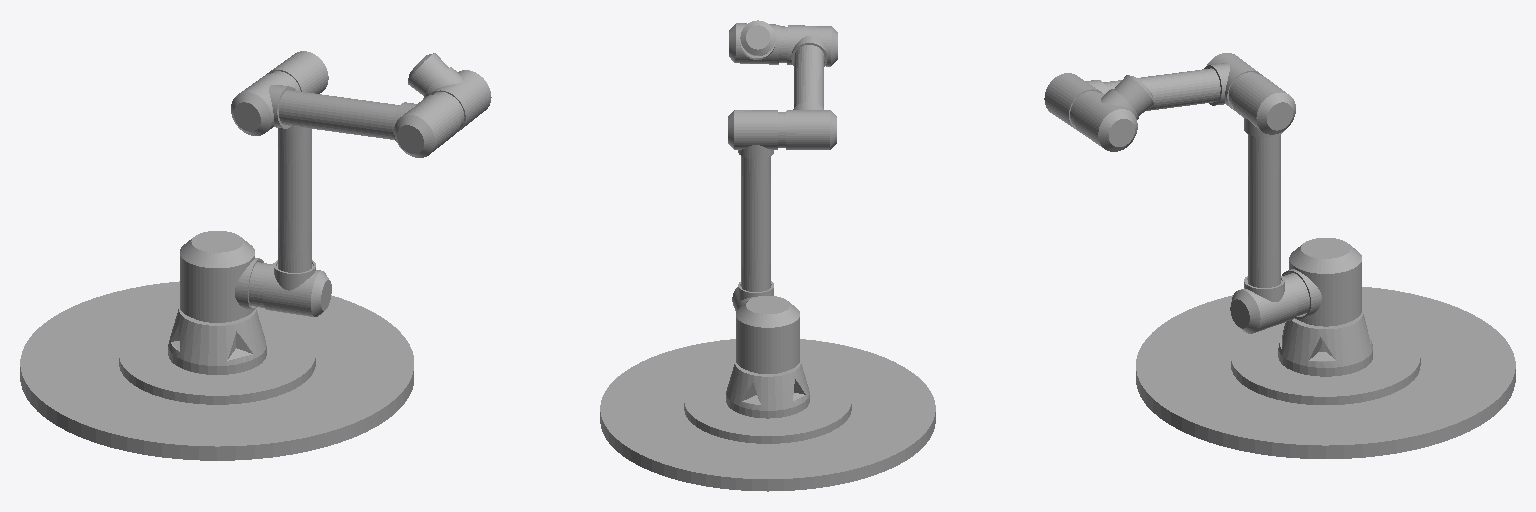
The robot description file, URDF, robot "elegriparm":
<?xml version="1.0" encoding="utf-8"?>
<!-- =================================================================================== -->
<!-- |    This document was autogenerated by xacro from elegriparm.xacro               | -->
<!-- |    EDITING THIS FILE BY HAND IS NOT RECOMMENDED                                 | -->
<!-- =================================================================================== -->
<robot name="elegriparm">
  <material name="silver">
    <color rgba="0.700 0.700 0.700 1.000"/>
  </material>
  <transmission name="Rev46_tran">
    <type>transmission_interface/SimpleTransmission</type>
    <joint name="Rev46">
      <hardwareInterface>hardware_interface/EffortJointInterface</hardwareInterface>
    </joint>
    <actuator name="Rev46_actr">
      <hardwareInterface>hardware_interface/EffortJointInterface</hardwareInterface>
      <mechanicalReduction>1</mechanicalReduction>
    </actuator>
  </transmission>
  <transmission name="Rev47_tran">
    <type>transmission_interface/SimpleTransmission</type>
    <joint name="Rev47">
      <hardwareInterface>hardware_interface/EffortJointInterface</hardwareInterface>
    </joint>
    <actuator name="Rev47_actr">
      <hardwareInterface>hardware_interface/EffortJointInterface</hardwareInterface>
      <mechanicalReduction>1</mechanicalReduction>
    </actuator>
  </transmission>
  <transmission name="Rev48_tran">
    <type>transmission_interface/SimpleTransmission</type>
    <joint name="Rev48">
      <hardwareInterface>hardware_interface/EffortJointInterface</hardwareInterface>
    </joint>
    <actuator name="Rev48_actr">
      <hardwareInterface>hardware_interface/EffortJointInterface</hardwareInterface>
      <mechanicalReduction>1</mechanicalReduction>
    </actuator>
  </transmission>
  <transmission name="Rev50_tran">
    <type>transmission_interface/SimpleTransmission</type>
    <joint name="Rev50">
      <hardwareInterface>hardware_interface/EffortJointInterface</hardwareInterface>
    </joint>
    <actuator name="Rev50_actr">
      <hardwareInterface>hardware_interface/EffortJointInterface</hardwareInterface>
      <mechanicalReduction>1</mechanicalReduction>
    </actuator>
  </transmission>
  <transmission name="Rev51_tran">
    <type>transmission_interface/SimpleTransmission</type>
    <joint name="Rev51">
      <hardwareInterface>hardware_interface/EffortJointInterface</hardwareInterface>
    </joint>
    <actuator name="Rev51_actr">
      <hardwareInterface>hardware_interface/EffortJointInterface</hardwareInterface>
      <mechanicalReduction>1</mechanicalReduction>
    </actuator>
  </transmission>
  <transmission name="Rev52_tran">
    <type>transmission_interface/SimpleTransmission</type>
    <joint name="Rev52">
      <hardwareInterface>hardware_interface/EffortJointInterface</hardwareInterface>
    </joint>
    <actuator name="Rev52_actr">
      <hardwareInterface>hardware_interface/EffortJointInterface</hardwareInterface>
      <mechanicalReduction>1</mechanicalReduction>
    </actuator>
  </transmission>
  <transmission name="Rev53_tran">
    <type>transmission_interface/SimpleTransmission</type>
    <joint name="Rev53">
      <hardwareInterface>hardware_interface/EffortJointInterface</hardwareInterface>
    </joint>
    <actuator name="Rev53_actr">
      <hardwareInterface>hardware_interface/EffortJointInterface</hardwareInterface>
      <mechanicalReduction>1</mechanicalReduction>
    </actuator>
  </transmission>
  <transmission name="Rev60_tran">
    <type>transmission_interface/SimpleTransmission</type>
    <joint name="Rev60">
      <hardwareInterface>hardware_interface/EffortJointInterface</hardwareInterface>
    </joint>
    <actuator name="Rev60_actr">
      <hardwareInterface>hardware_interface/EffortJointInterface</hardwareInterface>
      <mechanicalReduction>1</mechanicalReduction>
    </actuator>
  </transmission>
  <gazebo>
    <plugin filename="libgazebo_ros_control.so" name="control"/>
  </gazebo>
  <gazebo reference="base_link">
    <material>Gazebo/Silver</material>
    <mu1>0.2</mu1>
    <mu2>0.2</mu2>
    <selfCollide>true</selfCollide>
    <gravity>true</gravity>
  </gazebo>
  <gazebo reference="link1_1">
    <material>Gazebo/Silver</material>
    <mu1>0.2</mu1>
    <mu2>0.2</mu2>
    <selfCollide>true</selfCollide>
  </gazebo>
  <gazebo reference="link2_1">
    <material>Gazebo/Silver</material>
    <mu1>0.2</mu1>
    <mu2>0.2</mu2>
    <selfCollide>true</selfCollide>
  </gazebo>
  <gazebo reference="link3_1">
    <material>Gazebo/Silver</material>
    <mu1>0.2</mu1>
    <mu2>0.2</mu2>
    <selfCollide>true</selfCollide>
  </gazebo>
  <gazebo reference="link5_1">
    <material>Gazebo/Silver</material>
    <mu1>0.2</mu1>
    <mu2>0.2</mu2>
    <selfCollide>true</selfCollide>
  </gazebo>
  <gazebo reference="link6_1">
    <material>Gazebo/Silver</material>
    <mu1>0.2</mu1>
    <mu2>0.2</mu2>
    <selfCollide>true</selfCollide>
  </gazebo>
  <gazebo reference="link7_1">
    <material>Gazebo/Silver</material>
    <mu1>0.2</mu1>
    <mu2>0.2</mu2>
    <selfCollide>true</selfCollide>
  </gazebo>
  <gazebo reference="link8_1">
    <material>Gazebo/Silver</material>
    <mu1>0.2</mu1>
    <mu2>0.2</mu2>
    <selfCollide>true</selfCollide>
  </gazebo>
  <gazebo reference="link4_1">
    <material>Gazebo/Silver</material>
    <mu1>0.2</mu1>
    <mu2>0.2</mu2>
    <selfCollide>true</selfCollide>
  </gazebo>
  <link name="base_link">
    <inertial>
      <origin rpy="0 0 0" xyz="-2.6378267996385318e-05 -2.982904930888828e-05 0.0452416392508935"/>
      <mass value="855.6902182513435"/>
      <inertia ixx="88.194887" ixy="-0.004914" ixz="0.003004" iyy="88.185464" iyz="0.003488" izz="173.450328"/>
    </inertial>
    <visual>
      <origin rpy="0 0 0" xyz="0 0 0"/>
      <geometry>
        <mesh filename="package://elegriparm_description/meshes/base_link.stl" scale="0.001 0.001 0.001"/>
      </geometry>
      <material name="silver"/>
    </visual>
    <collision>
      <origin rpy="0 0 0" xyz="0 0 0"/>
      <geometry>
        <mesh filename="package://elegriparm_description/meshes/base_link.stl" scale="0.001 0.001 0.001"/>
      </geometry>
    </collision>
  </link>
  <link name="link1_1">
    <inertial>
      <origin rpy="0 0 0" xyz="0.012552259756380054 -0.014820493391146296 0.20074728180211923"/>
      <mass value="162.8353483389851"/>
      <inertia ixx="2.522973" ixy="0.26063" ixz="-0.067697" iyy="2.435738" iyz="0.07993" izz="1.773971"/>
    </inertial>
    <visual>
      <origin rpy="0 0 0" xyz="-0.0 0.0 -0.155"/>
      <geometry>
        <mesh filename="package://elegriparm_description/meshes/link1_1.stl" scale="0.001 0.001 0.001"/>
      </geometry>
      <material name="silver"/>
    </visual>
    <collision>
      <origin rpy="0 0 0" xyz="-0.0 0.0 -0.155"/>
      <geometry>
        <mesh filename="package://elegriparm_description/meshes/link1_1.stl" scale="0.001 0.001 0.001"/>
      </geometry>
    </collision>
  </link>
  <link name="link2_1">
    <inertial>
      <origin rpy="0 0 0" xyz="0.37718159984781086 -0.16304278711013198 -0.027869527473308564"/>
      <mass value="16.3345971734594"/>
      <inertia ixx="0.080874" ixy="0.004955" ixz="0.007658" iyy="0.080039" iyz="-0.008312" izz="0.075837"/>
    </inertial>
    <visual>
      <origin rpy="0 0 0" xyz="0.157727 0.099531 -0.430868"/>
      <geometry>
        <mesh filename="package://elegriparm_description/meshes/link2_1.stl" scale="0.001 0.001 0.001"/>
      </geometry>
      <material name="silver"/>
    </visual>
    <collision>
      <origin rpy="0 0 0" xyz="0.157727 0.099531 -0.430868"/>
      <geometry>
        <mesh filename="package://elegriparm_description/meshes/link2_1.stl" scale="0.001 0.001 0.001"/>
      </geometry>
    </collision>
  </link>
  <link name="link3_1">
    <inertial>
      <origin rpy="0 0 0" xyz="4.174088950870125e-07 -3.563244375670571e-07 0.3150003051274889"/>
      <mass value="58.287075422588"/>
      <inertia ixx="1.982512" ixy="0.0" ixz="-0.0" iyy="1.982512" iyz="-0.0" izz="0.109334"/>
    </inertial>
    <visual>
      <origin rpy="0 0 0" xyz="-0.18738 0.225644 -0.4817"/>
      <geometry>
        <mesh filename="package://elegriparm_description/meshes/link3_1.stl" scale="0.001 0.001 0.001"/>
      </geometry>
      <material name="silver"/>
    </visual>
    <collision>
      <origin rpy="0 0 0" xyz="-0.18738 0.225644 -0.4817"/>
      <geometry>
        <mesh filename="package://elegriparm_description/meshes/link3_1.stl" scale="0.001 0.001 0.001"/>
      </geometry>
    </collision>
  </link>
  <link name="link5_1">
    <inertial>
      <origin rpy="0 0 0" xyz="0.006460681422399042 -0.01241626832551379 0.002097716132566596"/>
      <mass value="16.33458651273331"/>
      <inertia ixx="0.06605" ixy="0.005491" ixz="-0.002227" iyy="0.08552" iyz="0.000529" izz="0.08518"/>
    </inertial>
    <visual>
      <origin rpy="0 0 0" xyz="0.043671 0.358677 -1.204533"/>
      <geometry>
        <mesh filename="package://elegriparm_description/meshes/link5_1.stl" scale="0.001 0.001 0.001"/>
      </geometry>
      <material name="silver"/>
    </visual>
    <collision>
      <origin rpy="0 0 0" xyz="0.043671 0.358677 -1.204533"/>
      <geometry>
        <mesh filename="package://elegriparm_description/meshes/link5_1.stl" scale="0.001 0.001 0.001"/>
      </geometry>
    </collision>
  </link>
  <link name="link6_1">
    <inertial>
      <origin rpy="0 0 0" xyz="0.12025593535505269 -0.21189518084320091 0.025763419455570924"/>
      <mass value="47.776682043389435"/>
      <inertia ixx="0.784226" ixy="0.385763" ixz="-0.046904" iyy="0.323425" iyz="0.082647" izz="0.993106"/>
    </inertial>
    <visual>
      <origin rpy="0 0 0" xyz="-0.043896 0.414929 -1.215943"/>
      <geometry>
        <mesh filename="package://elegriparm_description/meshes/link6_1.stl" scale="0.001 0.001 0.001"/>
      </geometry>
      <material name="silver"/>
    </visual>
    <collision>
      <origin rpy="0 0 0" xyz="-0.043896 0.414929 -1.215943"/>
      <geometry>
        <mesh filename="package://elegriparm_description/meshes/link6_1.stl" scale="0.001 0.001 0.001"/>
      </geometry>
    </collision>
  </link>
  <link name="link7_1">
    <inertial>
      <origin rpy="0 0 0" xyz="0.10237209013635501 -0.043341227116188596 0.01330882364025121"/>
      <mass value="62.39336668118014"/>
      <inertia ixx="0.352989" ixy="-0.255612" ixz="-0.022779" iyy="0.688749" iyz="-0.010194" izz="0.836734"/>
    </inertial>
    <visual>
      <origin rpy="0 0 0" xyz="-0.284408 0.83872 -1.26747"/>
      <geometry>
        <mesh filename="package://elegriparm_description/meshes/link7_1.stl" scale="0.001 0.001 0.001"/>
      </geometry>
      <material name="silver"/>
    </visual>
    <collision>
      <origin rpy="0 0 0" xyz="-0.284408 0.83872 -1.26747"/>
      <geometry>
        <mesh filename="package://elegriparm_description/meshes/link7_1.stl" scale="0.001 0.001 0.001"/>
      </geometry>
    </collision>
  </link>
  <link name="link8_1">
    <inertial>
      <origin rpy="0 0 0" xyz="-0.020310230742140334 -0.009607967604363443 0.06712602452313687"/>
      <mass value="28.09297060145581"/>
      <inertia ixx="0.213748" ixy="-0.012252" ixz="0.051433" iyy="0.231658" iyz="0.025643" izz="0.124731"/>
    </inertial>
    <visual>
      <origin rpy="0 0 0" xyz="-0.561048 0.786497 -1.288517"/>
      <geometry>
        <mesh filename="package://elegriparm_description/meshes/link8_1.stl" scale="0.001 0.001 0.001"/>
      </geometry>
      <material name="silver"/>
    </visual>
    <collision>
      <origin rpy="0 0 0" xyz="-0.561048 0.786497 -1.288517"/>
      <geometry>
        <mesh filename="package://elegriparm_description/meshes/link8_1.stl" scale="0.001 0.001 0.001"/>
      </geometry>
    </collision>
  </link>
  <link name="link4_1">
    <inertial>
      <origin rpy="0 0 0" xyz="-0.05744272173050652 -0.03431687311802767 0.08905783463041961"/>
      <mass value="61.145733834937005"/>
      <inertia ixx="0.357472" ixy="-0.264206" ixz="0.013096" iyy="0.671505" iyz="0.008209" izz="0.809876"/>
    </inertial>
    <visual>
      <origin rpy="0 0 0" xyz="-0.18738 0.225644 -1.1117"/>
      <geometry>
        <mesh filename="package://elegriparm_description/meshes/link4_1.stl" scale="0.001 0.001 0.001"/>
      </geometry>
      <material name="silver"/>
    </visual>
    <collision>
      <origin rpy="0 0 0" xyz="-0.18738 0.225644 -1.1117"/>
      <geometry>
        <mesh filename="package://elegriparm_description/meshes/link4_1.stl" scale="0.001 0.001 0.001"/>
      </geometry>
    </collision>
  </link>
  <joint name="Rev46" type="continuous">
    <origin rpy="0 0 0" xyz="0.0 0.0 0.155"/>
    <parent link="base_link"/>
    <child link="link1_1"/>
    <axis xyz="0.0 0.0 1.0"/>
  </joint>
  <joint name="Rev47" type="revolute">
    <origin rpy="0 0 0" xyz="-0.157727 -0.099531 0.275868"/>
    <parent link="link1_1"/>
    <child link="link2_1"/>
    <axis xyz="0.639504 -0.768788 -0.0"/>
    <limit effort="100" lower="-0.872665" upper="0.698132" velocity="100"/>
  </joint>
  <joint name="Rev48" type="revolute">
    <origin rpy="0 0 0" xyz="0.345107 -0.126113 0.050832"/>
    <parent link="link2_1"/>
    <child link="link3_1"/>
    <axis xyz="0.0 0.0 1.0"/>
    <limit effort="100" lower="-1.570796" upper="1.570796" velocity="100"/>
  </joint>
  <joint name="Rev50" type="revolute">
    <origin rpy="0 0 0" xyz="-0.231051 -0.133033 0.092833"/>
    <parent link="link4_1"/>
    <child link="link5_1"/>
    <axis xyz="-0.869702 -0.493576 -0.0"/>
    <limit effort="100" lower="-1.570796" upper="1.570796" velocity="100"/>
  </joint>
  <joint name="Rev51" type="revolute">
    <origin rpy="0 0 0" xyz="0.087567 -0.056252 0.01141"/>
    <parent link="link5_1"/>
    <child link="link6_1"/>
    <axis xyz="0.49084 -0.86488 0.105158"/>
    <limit effort="100" lower="-0.872665" upper="3.141593" velocity="100"/>
  </joint>
  <joint name="Rev52" type="revolute">
    <origin rpy="0 0 0" xyz="0.240512 -0.423791 0.051527"/>
    <parent link="link6_1"/>
    <child link="link7_1"/>
    <axis xyz="0.49084 -0.86488 0.105158"/>
    <limit effort="100" lower="-1.570796" upper="2.268928" velocity="100"/>
  </joint>
  <joint name="Rev53" type="revolute">
    <origin rpy="0 0 0" xyz="0.27664 0.052223 0.021047"/>
    <parent link="link7_1"/>
    <child link="link8_1"/>
    <axis xyz="0.867241 0.496575 0.036152"/>
    <limit effort="100" lower="-1.745329" upper="-0.174533" velocity="100"/>
  </joint>
  <joint name="Rev60" type="revolute">
    <origin rpy="0 0 0" xyz="0.0 0.0 0.63"/>
    <parent link="link3_1"/>
    <child link="link4_1"/>
    <axis xyz="0.0 0.0 1.0"/>
    <limit effort="100" lower="-1.570796" upper="1.570796" velocity="100"/>
  </joint>
</robot>

--- Facts derived from the render (not from the file) ---
3 views of the same robot in one strip: view 1: azimuth 30°, elevation 25°; view 2: azimuth 150°, elevation 25°; view 3: azimuth 270°, elevation 25° (orthographic).
Model elegriparm with 9 links and 8 joints (7 revolute, 1 continuous), rooted at base_link, posed all joints at 0 but 1 set to mid-range because 0 is outside their limits (Rev53 = -0.9599).
Visible links, largest first — view 1: base_link, link1_1, link3_1, link6_1, link7_1, link8_1, link2_1, link5_1, link4_1; view 2: base_link, link1_1, link3_1, link4_1, link5_1, link8_1, link7_1, link6_1; view 3: base_link, link1_1, link3_1, link8_1, link4_1, link2_1, link6_1, link7_1, link5_1.
Boxes of the visible links, x1,y1,x2,y2 form: base_link: [20, 281, 413, 460]; link1_1: [180, 231, 271, 322]; link3_1: [278, 126, 311, 272]; link6_1: [279, 90, 399, 139]; link7_1: [392, 92, 464, 157]; link8_1: [408, 53, 491, 131]; link2_1: [263, 260, 331, 316]; link5_1: [231, 73, 295, 135]; link4_1: [266, 51, 328, 93]; base_link: [600, 339, 935, 491]; link1_1: [736, 296, 799, 394]; link3_1: [741, 156, 770, 291]; link4_1: [728, 110, 785, 158]; link5_1: [786, 102, 836, 149]; link8_1: [729, 20, 779, 64]; link7_1: [779, 25, 837, 66]; link6_1: [794, 45, 824, 108]; base_link: [1136, 287, 1515, 458]; link1_1: [1282, 238, 1361, 351]; link3_1: [1248, 134, 1280, 287]; link8_1: [1074, 75, 1153, 151]; link4_1: [1229, 72, 1295, 137]; link2_1: [1230, 276, 1297, 333]; link6_1: [1103, 68, 1220, 110]; link7_1: [1044, 73, 1107, 130]; link5_1: [1204, 53, 1262, 110].
Size in the robot's own frame: 1.4 by 1.74 by 1.44 metres.
9 mesh visuals loaded from 9 distinct referenced files (9 binary STL).
